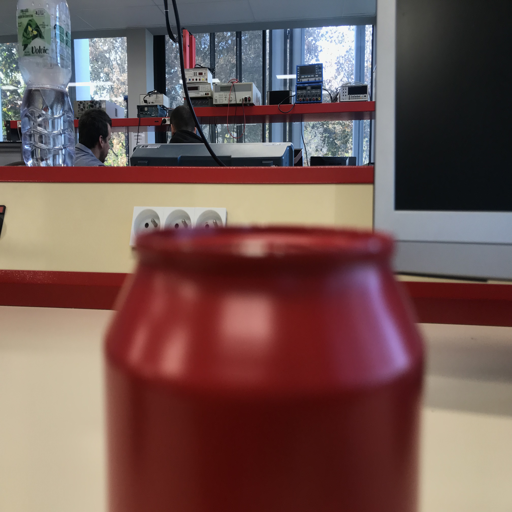Red_Can: (93, 223, 434, 511)
